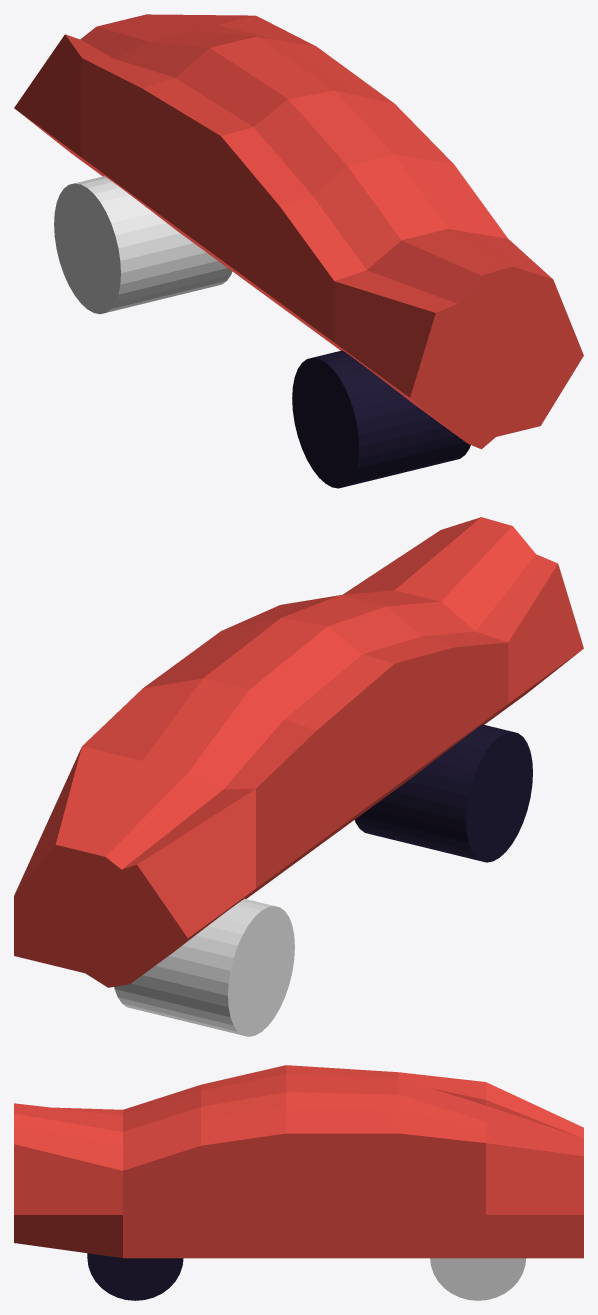
File: auto.glb
3 renders of one model, top to bottom at view 1: azimuth 30°, elevation 25°; view 2: azimuth 150°, elevation 25°; view 3: azimuth 270°, elevation 25°, orthographic. The views are drawn at different scales.
Parts seen in each view (by area): view 1: Cube, Cylinder, Cylinder.001; view 2: Cube, Cylinder.001, Cylinder; view 3: Cube, Cylinder, Cylinder.001.
Boxes of the visible parts, x1,y1,x2,y2 form: Cube: (14, 14, 583, 449); Cylinder: (292, 350, 470, 488); Cylinder.001: (54, 176, 232, 314); Cube: (14, 517, 583, 987); Cylinder.001: (114, 898, 294, 1036); Cylinder: (355, 724, 532, 862); Cube: (14, 1065, 583, 1258); Cylinder: (87, 1253, 183, 1300); Cylinder.001: (430, 1258, 526, 1300).
Size of the model in its own units: 3 by 4.81 by 11.83.
